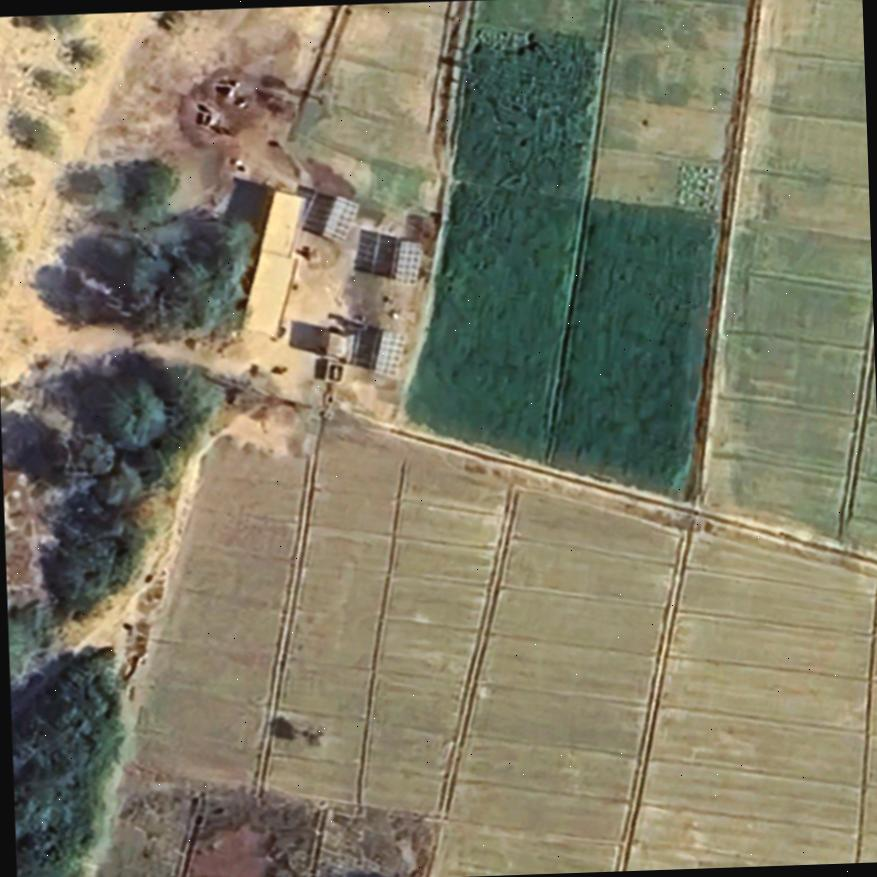Solarpanel: (317, 189, 361, 247), (369, 327, 408, 381), (392, 236, 424, 284)
